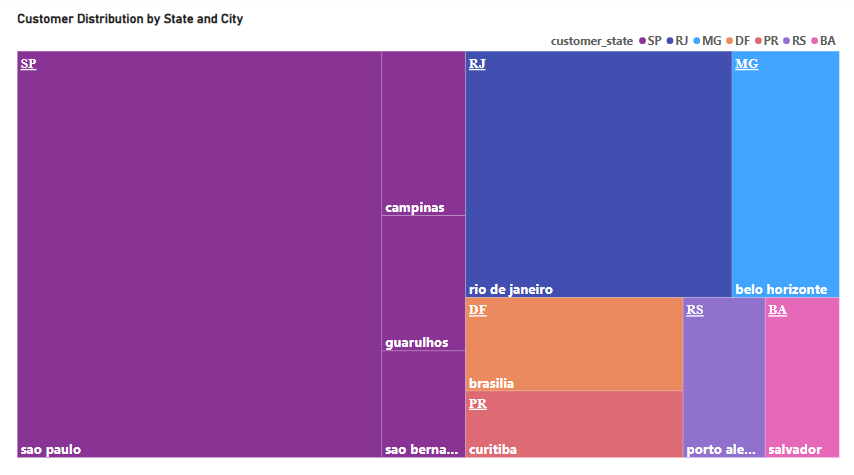

The page's visual inventory and layout, read from the dashboard file:
{"tool":"powerbi","page":{"name":"Customer distribution bt state and city","canvas":[1280,720],"ordinal":2},"visuals":[{"type":"treemap","title":"Customer Distribution by State and City","fields":{"Group":["top 10 cities come under what states.customer_state"],"Values":["Sum(top 10 cities come under what states.number_customers)"],"Details":["top 10 cities come under what states.customer_city"]},"box":[21.1,22.8,1237.9,672.5],"z":1000}]}

Visuals, with their boxes in screenshot pixels (x1, y1, x2, y2), scaled from the page's 1280x720 canvas onto the 854x475 screenshot:
"Customer Distribution by State and City" treemap: 14,15,840,459
